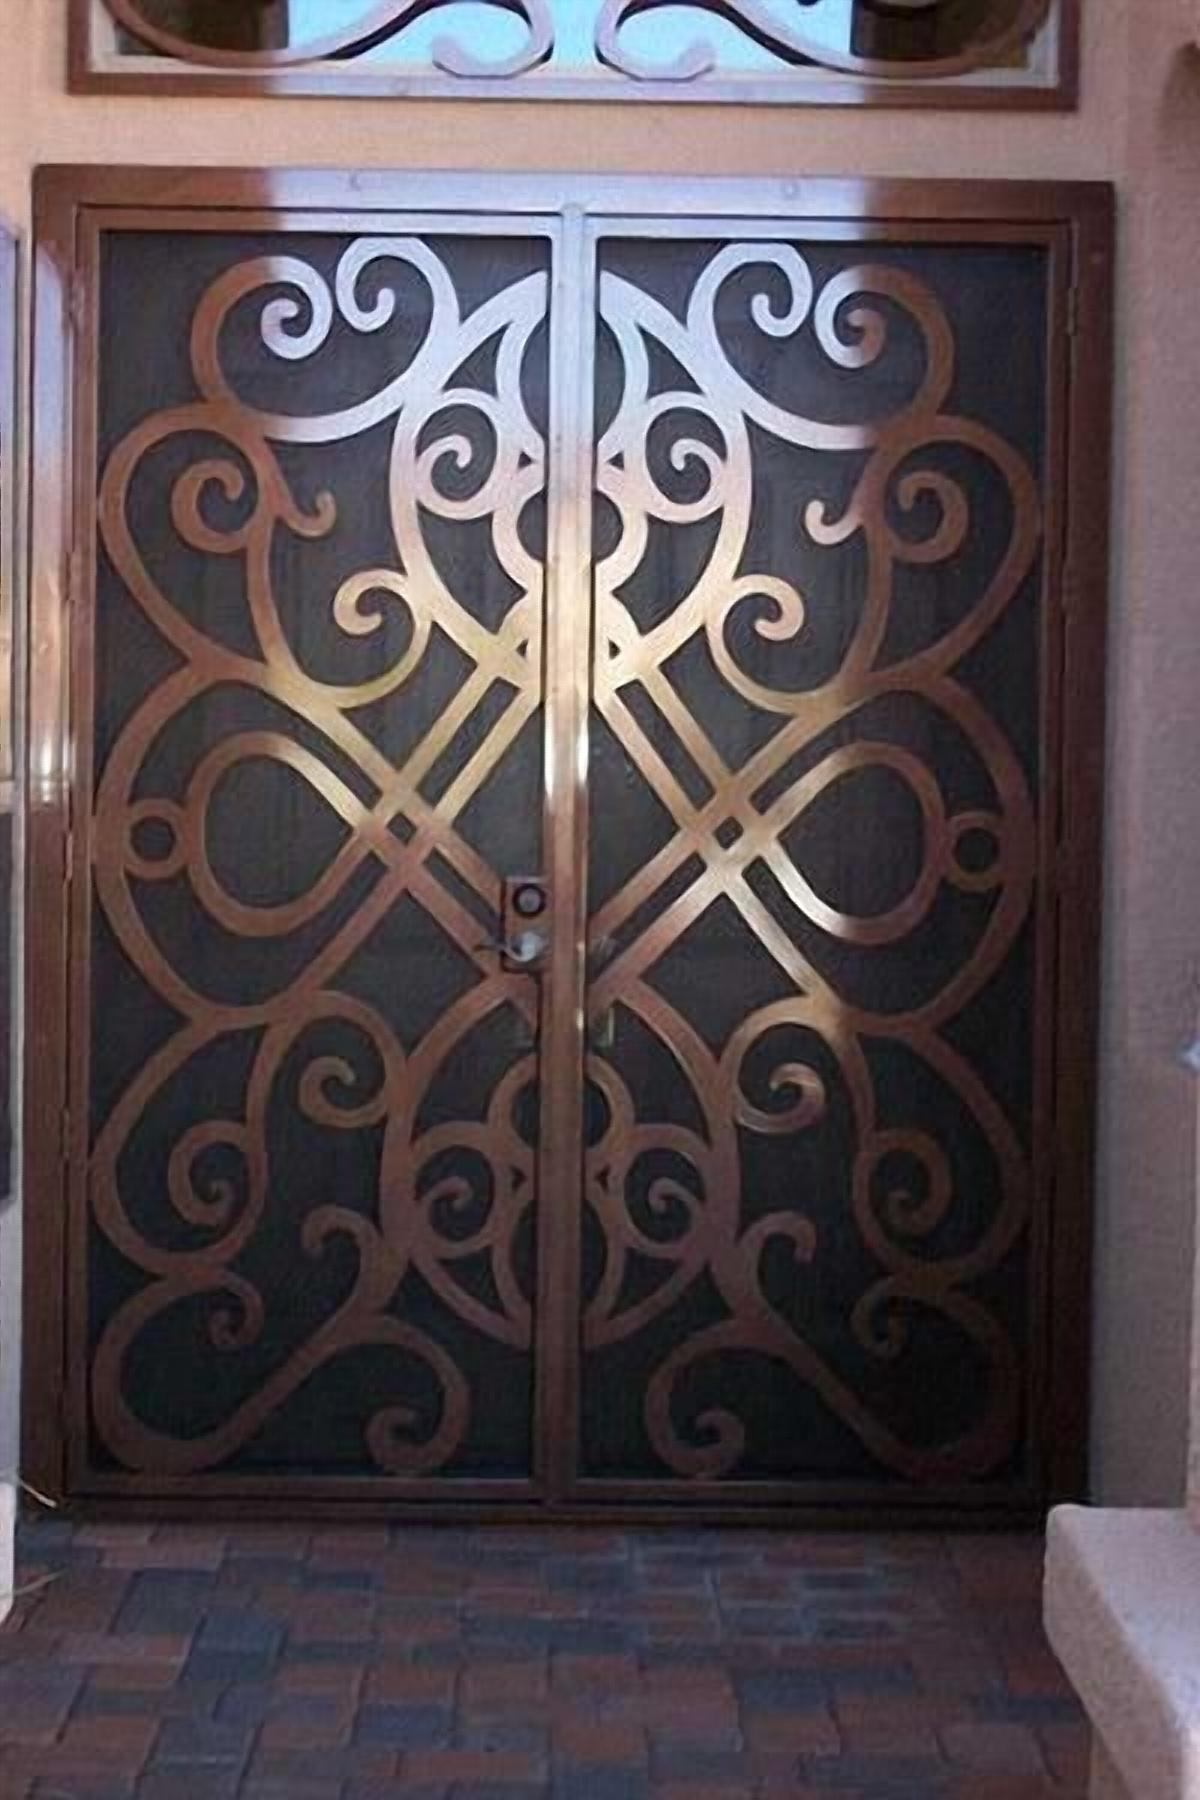Door: (4, 150, 1116, 1518)
Window-without-grill: (74, 0, 1074, 101)
